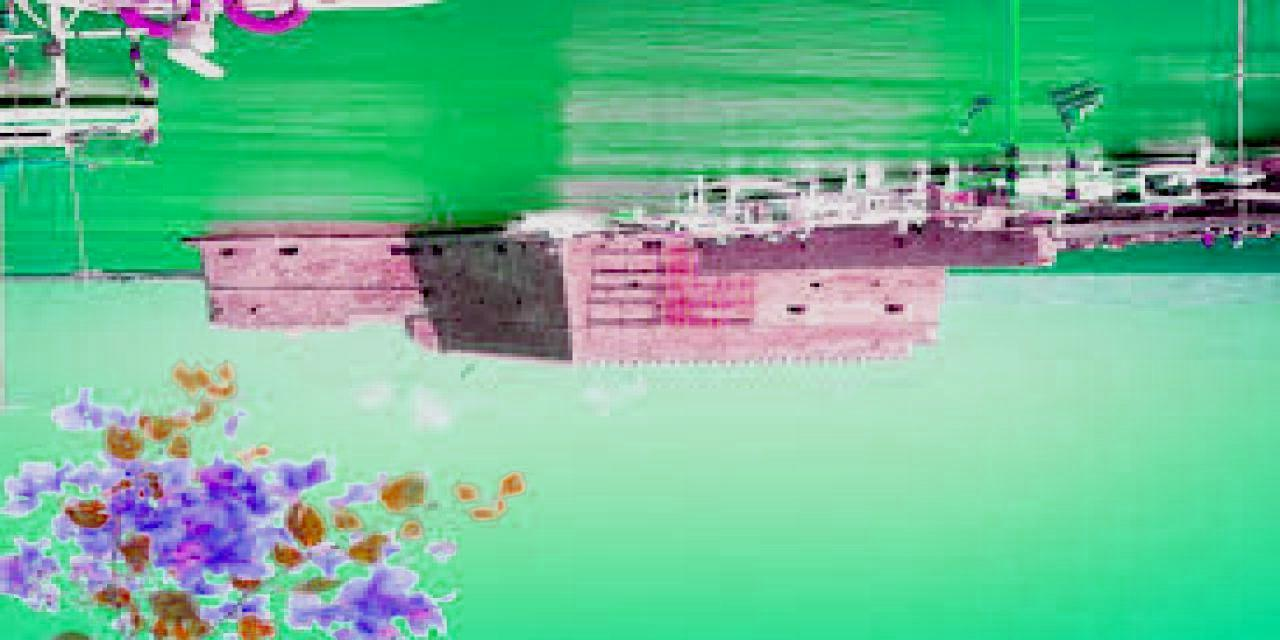Kules: (178, 218, 957, 384)
